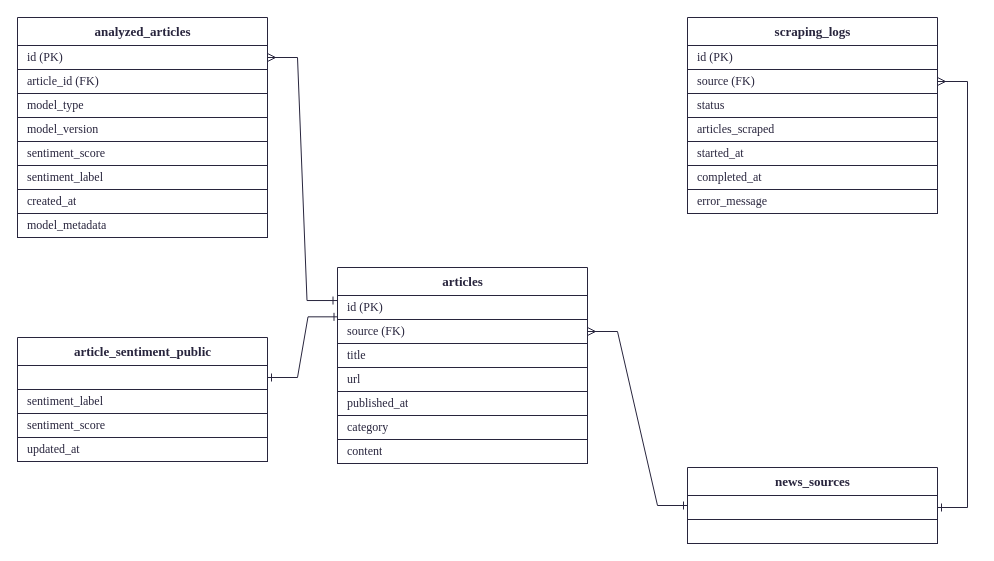
Some shapes in this 994 by 561 pixel diagram are drawn without their labels. The centre of each missing label's shape, as x and y in pixels:
article_id (PK, FK): (142,377)
outlet_type: (812,531)
source_name (PK): (812,507)
